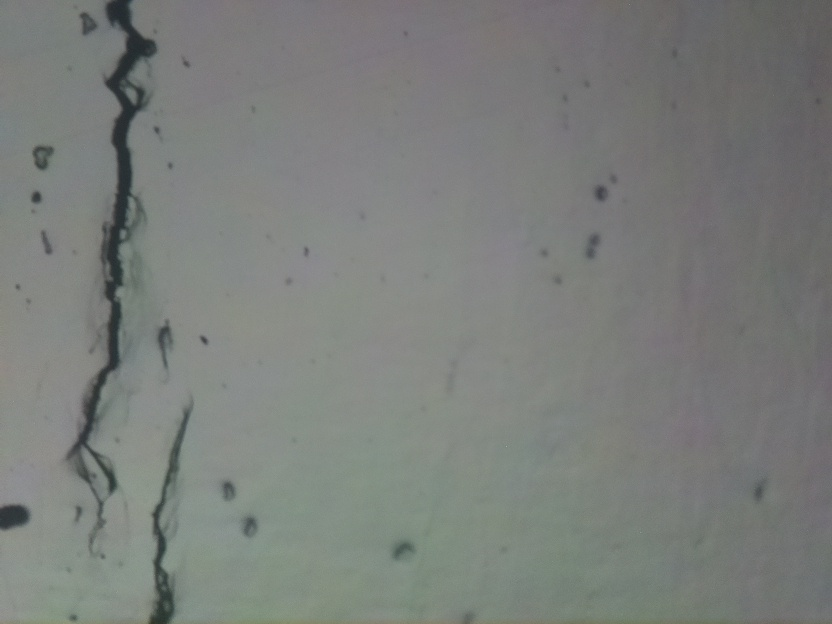crack: (67, 0, 154, 520), (145, 394, 203, 624)
